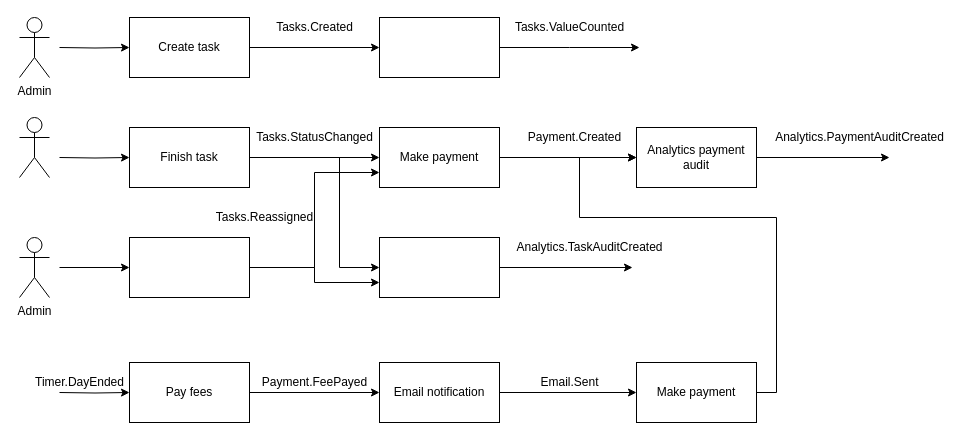
This 966x440 diagram has some shape labels left out. The shapes that lost their labels are listed below. From the top down, each one's box as (x1, y1, x2, y2) in pixels, then its label:
(378, 16, 500, 78): Count task fee
(18, 116, 50, 178): User
(128, 236, 250, 298): Shuffle tasks
(378, 236, 500, 298): Analytics task audit
